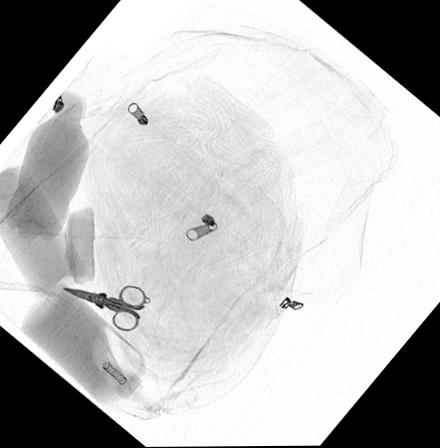Scissors: (60, 285, 145, 332)
